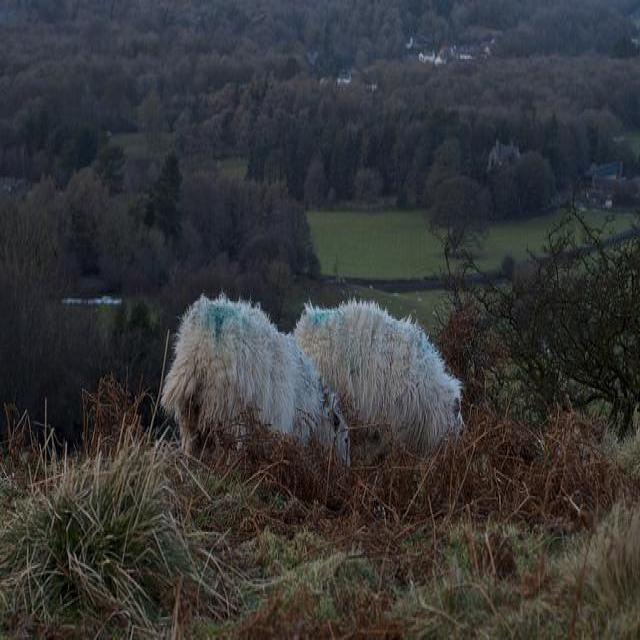Sheep: (158, 303, 349, 471), (288, 300, 469, 455)
